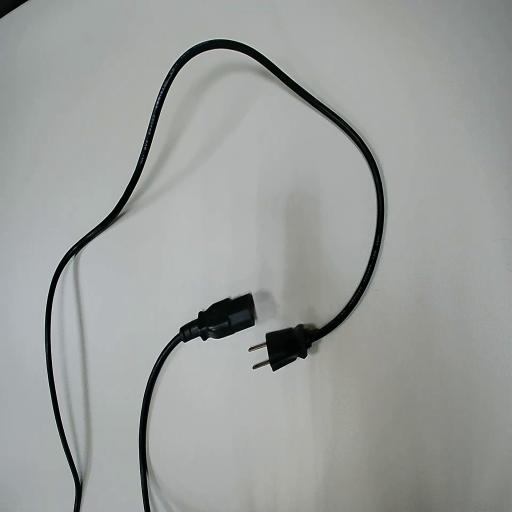wire: (46, 40, 383, 511), (140, 294, 254, 511)
